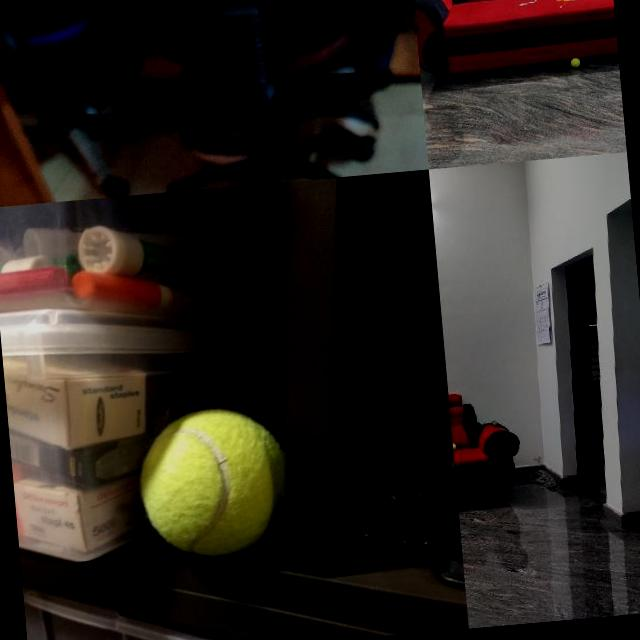tennis-ball: (132, 402, 286, 564), (569, 56, 580, 68), (452, 442, 456, 451)
